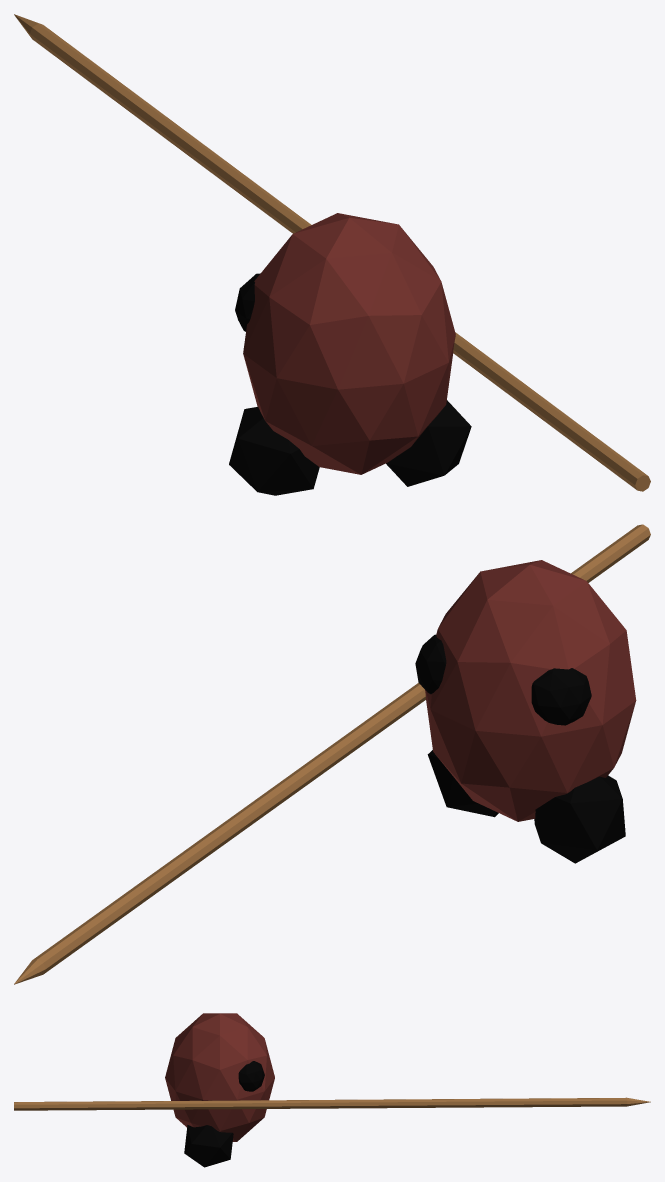
The model's file is walk.f0010.glb.
The picture shows the model from 3 angles, top to bottom: view 1: azimuth 30°, elevation 25°; view 2: azimuth 150°, elevation 25°; view 3: azimuth 270°, elevation 25°; orthographic projection. The views are drawn at different scales.
Parts seen in each view (by area): view 1: Body.001; view 2: Body.001; view 3: Body.001.
Part boxes in pixels (<box>): Body.001: <box>14,14,650,495</box>; Body.001: <box>14,524,650,984</box>; Body.001: <box>14,1013,650,1167</box>.
Size of the model in its own units: 2.17 by 2.78 by 11.56.
Materials: 1 (1 with a texture image).
